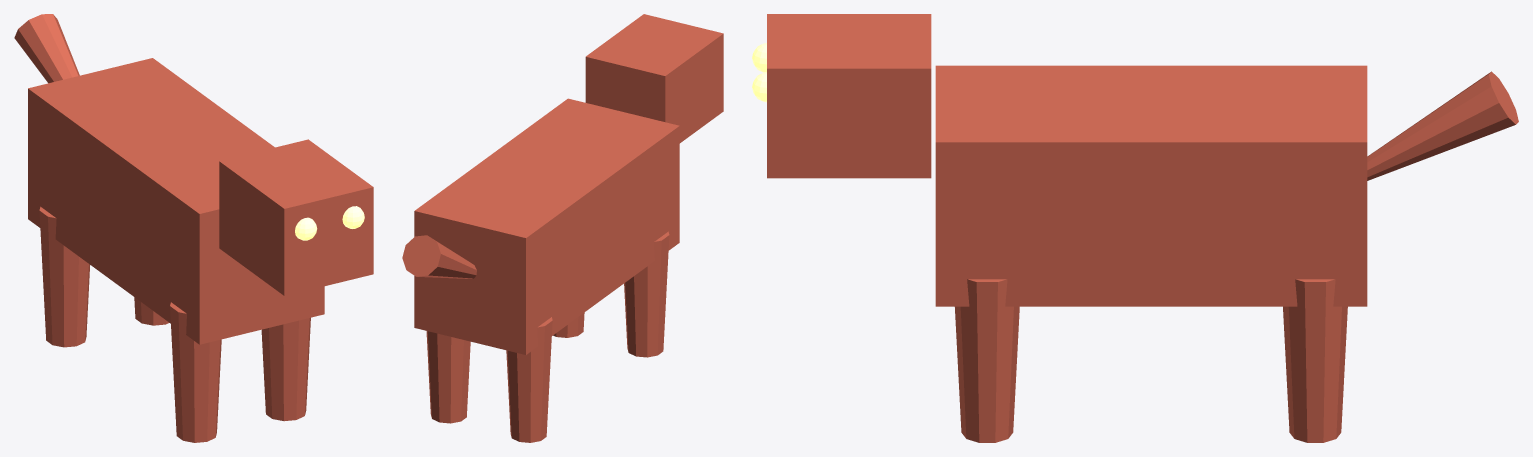
3 renders of one model, left to right at view 1: azimuth 30°, elevation 25°; view 2: azimuth 150°, elevation 25°; view 3: azimuth 270°, elevation 25°, orthographic. The views are drawn at different scales.
Visible parts, largest first — view 1: trunk, head, legFRm, legBRm, legFLm, tail, legBLm, eye, eye.001; view 2: trunk, head, legBRm, legFRm, legBLm, tail, legFLm; view 3: trunk, head, legBLm, legFLm, tail.
Boxes of the visible parts, x1,y1,x2,y2 form: trunk: (28, 58, 324, 344); head: (219, 139, 373, 295); legFRm: (170, 302, 221, 442); legBRm: (39, 206, 89, 347); legFLm: (261, 317, 310, 421); tail: (14, 14, 79, 83); legBLm: (134, 297, 169, 325); eye: (295, 217, 317, 240); eye.001: (342, 206, 364, 228); trunk: (414, 98, 679, 354); head: (585, 14, 723, 143); legBRm: (506, 317, 552, 442); legFRm: (624, 231, 669, 357); legBLm: (426, 331, 470, 423); tail: (402, 235, 476, 278); legFLm: (553, 312, 584, 337); trunk: (935, 65, 1367, 306); head: (767, 14, 931, 178); legBLm: (1283, 279, 1347, 442); legFLm: (955, 279, 1019, 442); tail: (1367, 71, 1518, 180).
Bounding box in the file's own units: 0.9496 × 1.95 × 3.73.
